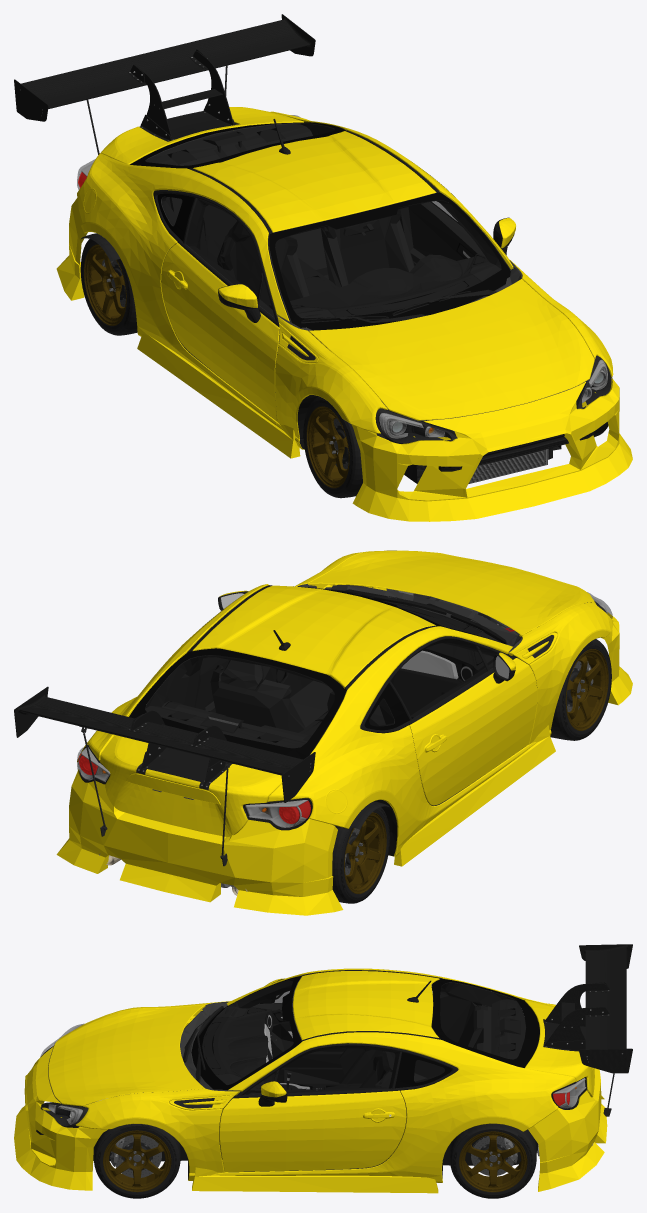
File: BRZ_URAS_Yellow5.glb
The picture shows the model from 3 angles, top to bottom: view 1: azimuth 30°, elevation 25°; view 2: azimuth 150°, elevation 25°; view 3: azimuth 270°, elevation 25°; orthographic projection. The views are drawn at different scales.
Parts seen in each view (by area): view 1: S1:Hood6_Mesh_022_M_Engine_Max_004_S1:M_CarPaint_Max1_0, S1:Interior5_Mesh_006_M_Interior_Max_S1:M_Interior_Max1_0, URAS_Object_10, S1:Glass6_Mesh_005_M_Opaque_PlasticRoughBlack_Max4_S1:M_Glas, S1:FendersR6_Mesh_019_M_CarPaint_Max_006_S1:M_CarPaint_Max1_, S1:Chassis7_Mesh_M_Opaque_PlasticSmoothBlack_Max_S1:M_CarPai, subaru:Wing6a_Carbon1_Geo_lodA_Wing6a_Carbon1_Geo_lodA_Subar, S1:DoorR4_Mesh_003_M_Opaque_PlasticSmoothBlack_Max1_S1:M_Car, S1:FenderFR6_Mesh_016_M_Opaque_PlasticRoughBlack_Max_008_S1:, S1:Glass6_Mesh_005_M_Opaque_PlasticRoughBlack_Max8_S1:Glass_, S1:DoorR_Glass4_Mesh_004_M_Glass_WindowRight_Low_S1:M_Glass_, URAS_Object_6 (+17 smaller); view 2: URAS_Object_8, S1:FendersR6_Mesh_019_M_CarPaint_Max_006_S1:M_CarPaint_Max1_, S1:Interior5_Mesh_006_M_Interior_Max_S1:M_Interior_Max1_0, S1:Chassis7_Mesh_M_Opaque_PlasticSmoothBlack_Max_S1:M_CarPai, S1:Glass6_Mesh_005_M_Opaque_PlasticRoughBlack_Max1_S1:M_Glas, S1:Hood6_Mesh_022_M_Engine_Max_004_S1:M_CarPaint_Max1_0, S1:DoorR4_Mesh_003_M_Opaque_PlasticSmoothBlack_Max1_S1:M_Car, subaru:Wing6a_Paint_Geo_lodA_Wing6a_Paint_Geo_lodA_Subaru_BR, subaru:Wing6a_Carbon1_Geo_lodA_Wing6a_Carbon1_Geo_lodA_Subar, S1:FenderFR6_Mesh_016_M_Opaque_PlasticRoughBlack_Max_008_S1:, S1:DoorR_Glass4_Mesh_004_M_Glass_WindowRight_Low_S1:M_Glass_, URAS_Object_6 (+15 smaller); view 3: S1:FendersR6_Mesh_019_M_CarPaint_Max_006_S1:M_CarPaint_Max1_, S1:Interior5_Mesh_006_M_Interior_Max_S1:M_Interior_Max1_0, S1:DoorL4_Mesh_001_M_Opaque_PlasticSmoothBlack_Max3_S1:M_Car, S1:Hood6_Mesh_022_M_Engine_Max_004_S1:M_CarPaint_Max1_0, S1:Chassis7_Mesh_M_Opaque_PlasticSmoothBlack_Max_S1:M_CarPai, subaru:Wing6a_Carbon1_Geo_lodA_Wing6a_Carbon1_Geo_lodA_Subar, S1:FenderFL6_Mesh_015_M_Opaque_PlasticRoughBlack_Max_007_S1:, URAS_Object_10, S1:Glass6_Mesh_005_M_Opaque_PlasticRoughBlack_Max4_S1:M_Glas, URAS_Object_8, S1:Glass6_Mesh_005_M_Opaque_PlasticRoughBlack_Max1_S1:M_Glas, S1:DoorL_Glass4_Mesh_002_M_Glass_WindowLeft_Low_S1:M_Glass_W (+20 smaller).
Boxes of the visible parts, x1,y1,x2,y2 form: S1:Hood6_Mesh_022_M_Engine_Max_004_S1:M_CarPaint_Max1_0: (309, 279, 594, 420); S1:Interior5_Mesh_006_M_Interior_Max_S1:M_Interior_Max1_0: (145, 123, 501, 415); URAS_Object_10: (351, 377, 632, 521); S1:Glass6_Mesh_005_M_Opaque_PlasticRoughBlack_Max4_S1:M_Glas: (275, 200, 500, 317); S1:FendersR6_Mesh_019_M_CarPaint_Max_006_S1:M_CarPaint_Max1_: (77, 111, 513, 425); S1:Chassis7_Mesh_M_Opaque_PlasticSmoothBlack_Max_S1:M_CarPai: (193, 131, 436, 232); subaru:Wing6a_Carbon1_Geo_lodA_Wing6a_Carbon1_Geo_lodA_Subar: (14, 14, 315, 140); S1:DoorR4_Mesh_003_M_Opaque_PlasticSmoothBlack_Max1_S1:M_Car: (161, 243, 279, 421); S1:FenderFR6_Mesh_016_M_Opaque_PlasticRoughBlack_Max_008_S1:: (275, 316, 387, 449); S1:Glass6_Mesh_005_M_Opaque_PlasticRoughBlack_Max8_S1:Glass_: (269, 192, 510, 330); S1:DoorR_Glass4_Mesh_004_M_Glass_WindowRight_Low_S1:M_Glass_: (185, 199, 274, 317); URAS_Object_6: (137, 334, 300, 458); URAS_Object_8: (56, 769, 343, 915); S1:FendersR6_Mesh_019_M_CarPaint_Max_006_S1:M_CarPaint_Max1_: (77, 584, 529, 856); S1:Interior5_Mesh_006_M_Interior_Max_S1:M_Interior_Max1_0: (145, 596, 522, 805); S1:Chassis7_Mesh_M_Opaque_PlasticSmoothBlack_Max_S1:M_CarPai: (192, 585, 435, 688); S1:Glass6_Mesh_005_M_Opaque_PlasticRoughBlack_Max1_S1:M_Glas: (145, 655, 343, 747); S1:Hood6_Mesh_022_M_Engine_Max_004_S1:M_CarPaint_Max1_0: (309, 550, 594, 635); S1:DoorR4_Mesh_003_M_Opaque_PlasticSmoothBlack_Max1_S1:M_Car: (409, 658, 537, 805); subaru:Wing6a_Paint_Geo_lodA_Wing6a_Paint_Geo_lodA_Subaru_BR: (100, 735, 282, 836); subaru:Wing6a_Carbon1_Geo_lodA_Wing6a_Carbon1_Geo_lodA_Subar: (14, 686, 315, 802); S1:FenderFR6_Mesh_016_M_Opaque_PlasticRoughBlack_Max_008_S1:: (508, 602, 613, 747); S1:DoorR_Glass4_Mesh_004_M_Glass_WindowRight_Low_S1:M_Glass_: (391, 640, 495, 718); URAS_Object_6: (394, 725, 555, 866); S1:FendersR6_Mesh_019_M_CarPaint_Max_006_S1:M_CarPaint_Max1_: (224, 968, 575, 1182); S1:Interior5_Mesh_006_M_Interior_Max_S1:M_Interior_Max1_0: (202, 979, 525, 1172); S1:DoorL4_Mesh_001_M_Opaque_PlasticSmoothBlack_Max3_S1:M_Car: (219, 1090, 406, 1171); S1:Hood6_Mesh_022_M_Engine_Max_004_S1:M_CarPaint_Max1_0: (48, 1005, 204, 1106); S1:Chassis7_Mesh_M_Opaque_PlasticSmoothBlack_Max_S1:M_CarPai: (293, 971, 439, 1039); subaru:Wing6a_Carbon1_Geo_lodA_Wing6a_Carbon1_Geo_lodA_Subar: (544, 944, 632, 1073); S1:FenderFL6_Mesh_015_M_Opaque_PlasticRoughBlack_Max_007_S1:: (76, 1088, 239, 1180); URAS_Object_10: (14, 1046, 107, 1190); S1:Glass6_Mesh_005_M_Opaque_PlasticRoughBlack_Max4_S1:M_Glas: (202, 979, 293, 1084); URAS_Object_8: (528, 1068, 607, 1191); S1:Glass6_Mesh_005_M_Opaque_PlasticRoughBlack_Max1_S1:M_Glas: (432, 982, 525, 1058); S1:DoorL_Glass4_Mesh_002_M_Glass_WindowLeft_Low_S1:M_Glass_W: (244, 1046, 399, 1094).
Bounding box in the file's own units: 1.86 × 1.28 × 4.24.
28 materials, 11 textured.
